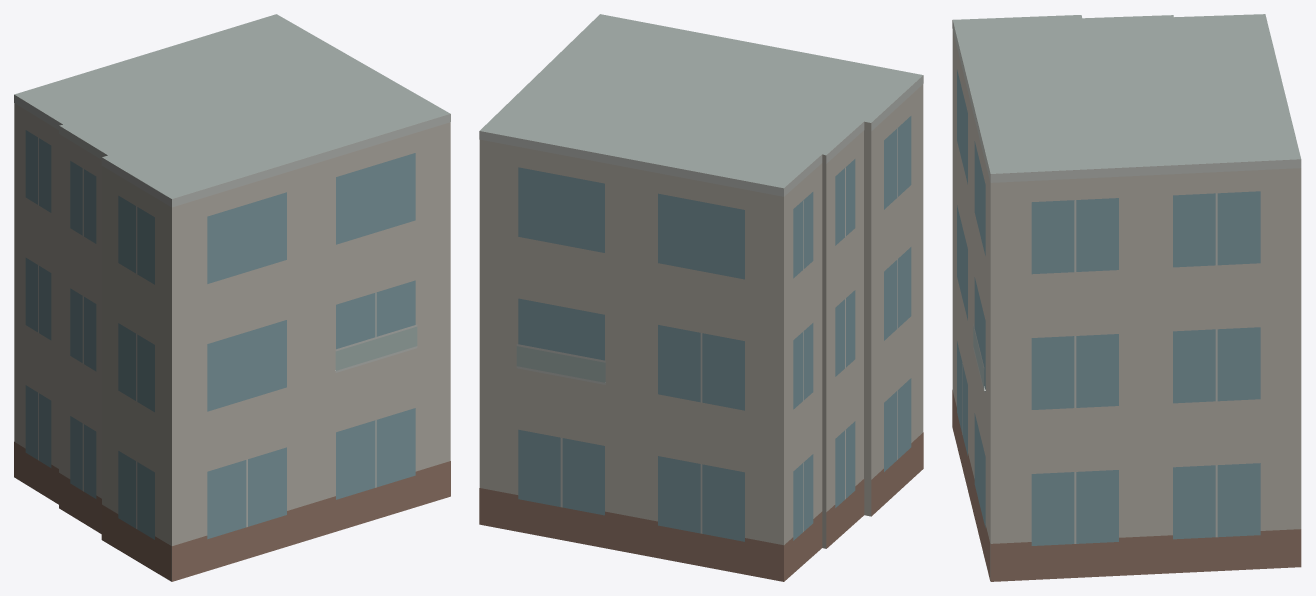
Rendered from survey-upis-32475448.glb.
The picture shows the model from 3 angles, left to right: view 1: azimuth 30°, elevation 25°; view 2: azimuth 150°, elevation 25°; view 3: azimuth 270°, elevation 25°; orthographic projection. The views are drawn at different scales.
Parts seen in each view (by area): view 1: survey-upis-32475448.tmp; view 2: survey-upis-32475448.tmp; view 3: survey-upis-32475448.tmp.
Part boxes in pixels (bbox=[...]): survey-upis-32475448.tmp: bbox=[14, 14, 450, 581]; survey-upis-32475448.tmp: bbox=[479, 14, 923, 581]; survey-upis-32475448.tmp: bbox=[952, 14, 1301, 581].
Bounding box in the file's own units: 9.43 × 11.2 × 8.69.
